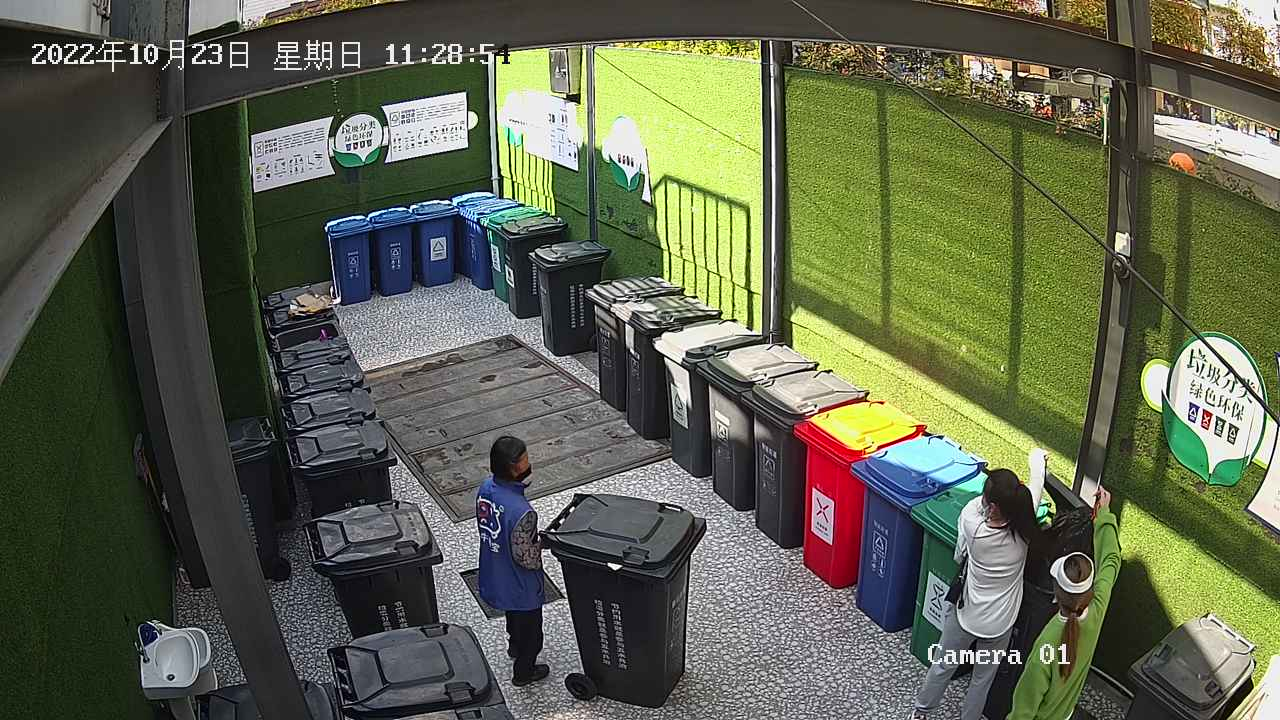person: (903, 440, 1127, 719)
worker: (471, 429, 558, 689)
